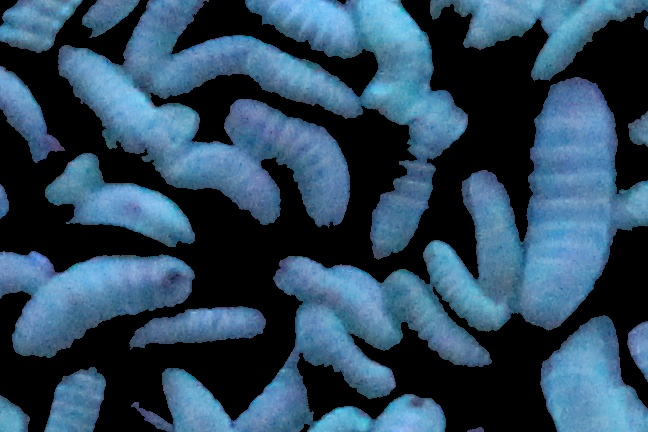larvae: (526, 82, 612, 332), (10, 255, 203, 364), (224, 104, 362, 240), (368, 104, 469, 256), (54, 49, 188, 163), (534, 312, 644, 432), (264, 261, 395, 348), (351, 1, 439, 122), (388, 273, 491, 373), (293, 306, 395, 403), (231, 1, 368, 69), (462, 157, 525, 302), (69, 177, 193, 249), (237, 46, 356, 117), (172, 155, 289, 223), (116, 308, 274, 358), (526, 1, 616, 78), (428, 244, 507, 327), (229, 357, 315, 432), (460, 1, 548, 70), (121, 1, 203, 71), (153, 40, 256, 87), (1, 58, 41, 177), (44, 361, 108, 432), (159, 372, 230, 432)
